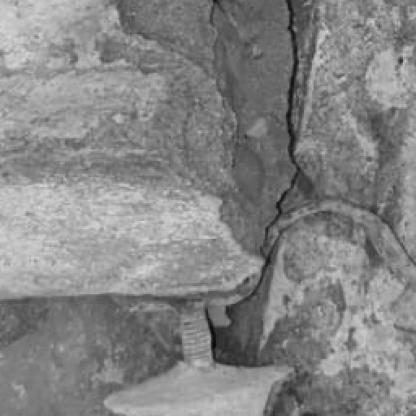cementitious_debris: (1, 4, 413, 414)
